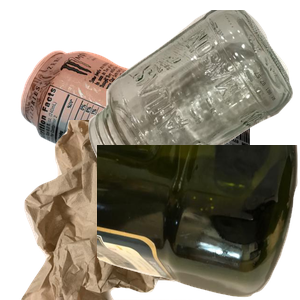glass: (86, 10, 300, 184)
metal: (18, 48, 258, 228)
plastic: (97, 145, 300, 300)
trash: (19, 120, 249, 300)
